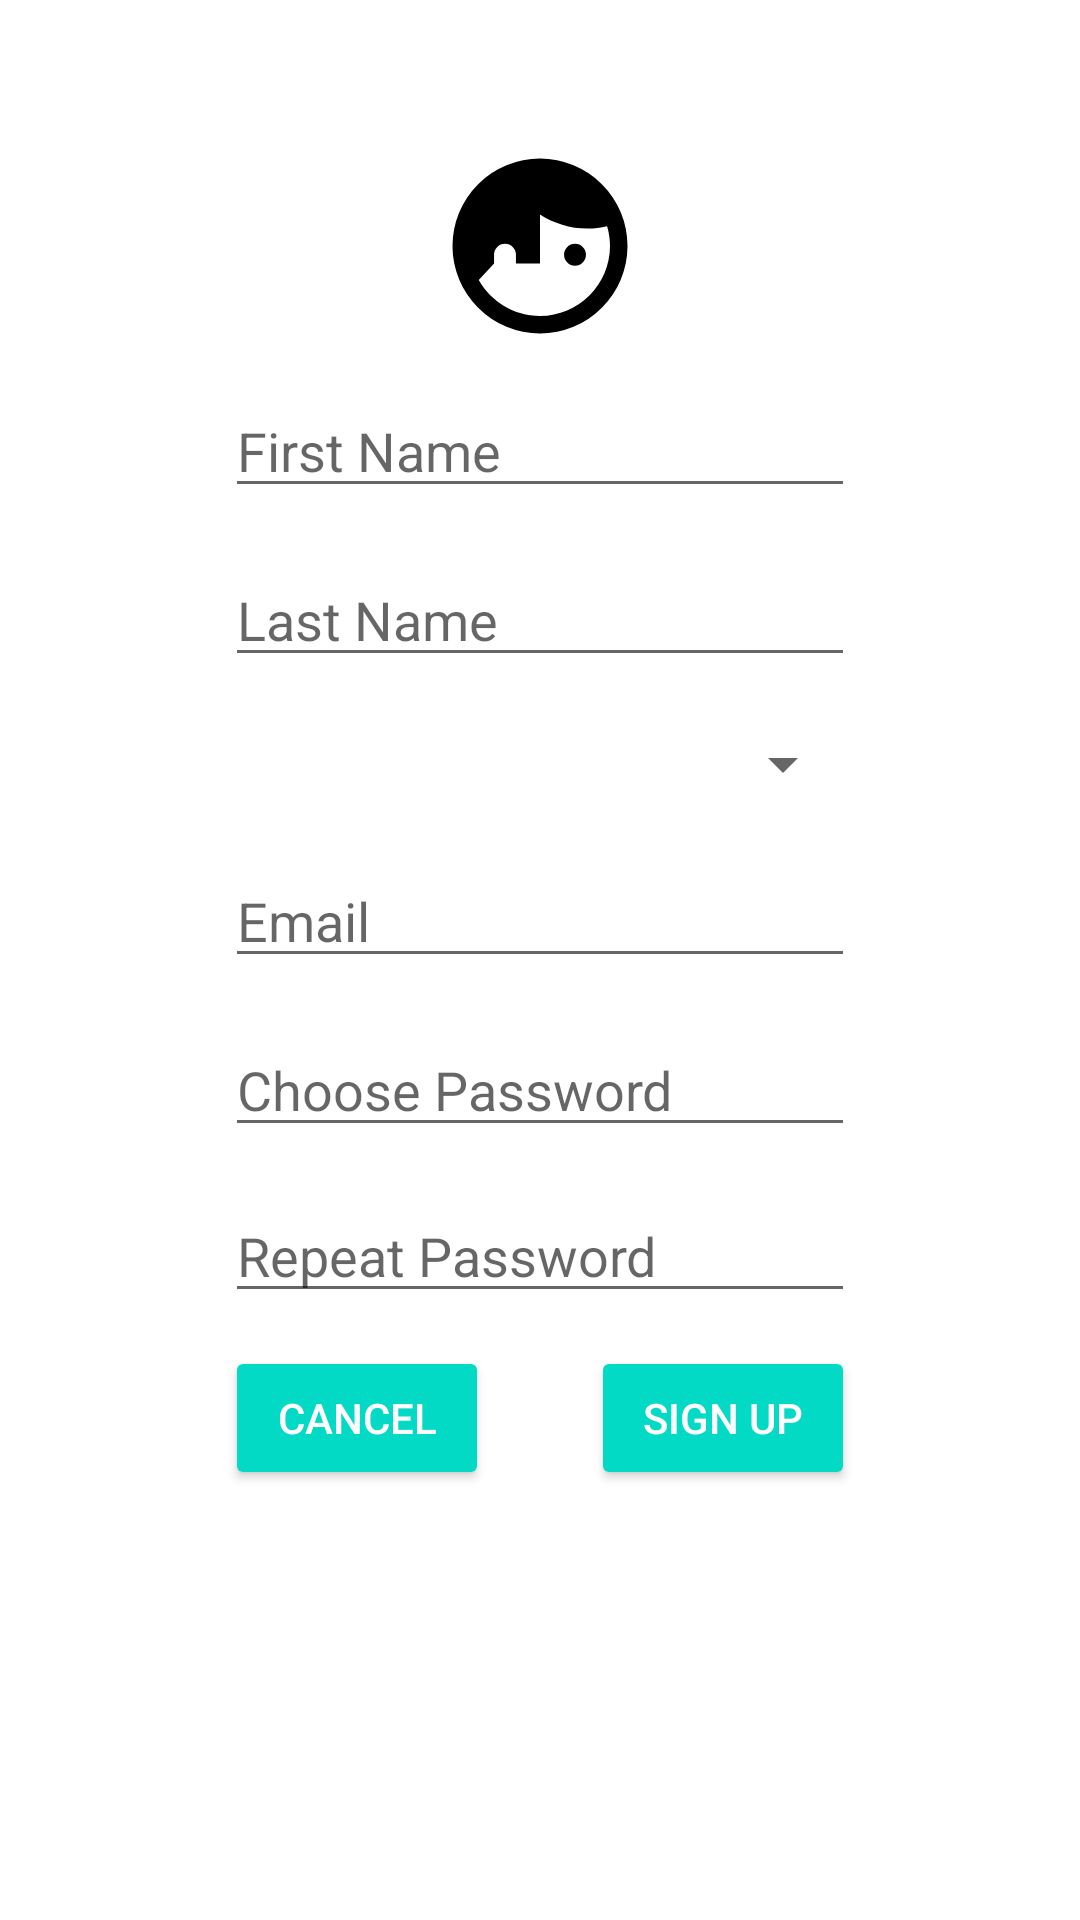

Point at icon controls on the screen. Image size 1080px×1920px, points as (x=x, y=y).
selfprofile: (x=540, y=246)
